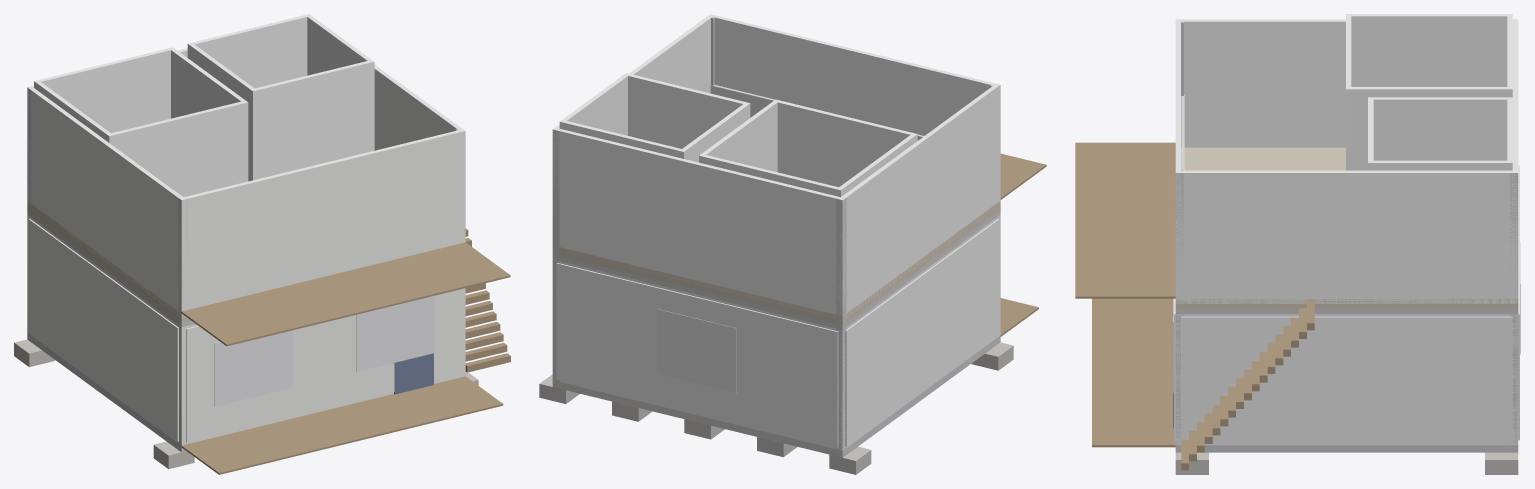
The model's file is Duplex-20-Premium-LOD0.glb.
3 views of the same model, side by side, from view 1: azimuth 30°, elevation 25°; view 2: azimuth 150°, elevation 25°; view 3: azimuth 270°, elevation 25° (orthographic). The views are drawn at different scales.
Visible parts, largest first — view 1: ExteriorShellUpper, ExteriorPanelsPremium, StudyUpper, BedroomUpper, BalconyUpper, BalconyGround, WindowsLargeUpgrade, StaircaseExternal, ExteriorShell, FoundationBlocks, FloorUpper, VerticalStructure (+3 smaller); view 2: ExteriorShellUpper, ExteriorPanelsPremium, BedroomUpper, StudyUpper, WindowsLargeUpgrade, FloorUpper, VerticalStructure, FoundationBlocks, BaseFrame, ExteriorShell, TopFrame, BalconyUpper (+2 smaller); view 3: ExteriorShellUpper, ExteriorPanelsPremium, BalconyUpper, BedroomUpper, BalconyGround, StudyUpper, FloorUpper, StaircaseExternal, ExteriorShell, BaseFrame, VerticalStructure, TopFrame (+1 smaller).
Part boxes in pixels (x1,y1,x2,y2): ExteriorShellUpper: [27, 48, 465, 317]; ExteriorPanelsPremium: [28, 218, 461, 442]; StudyUpper: [187, 14, 374, 181]; BedroomUpper: [34, 47, 248, 196]; BalconyUpper: [181, 242, 510, 346]; BalconyGround: [181, 376, 503, 474]; WindowsLargeUpgrade: [214, 295, 434, 406]; StaircaseExternal: [465, 228, 510, 372]; ExteriorShell: [27, 215, 465, 445]; FoundationBlocks: [14, 339, 478, 469]; FloorUpper: [27, 201, 190, 322]; VerticalStructure: [27, 89, 458, 445]; ExteriorShellUpper: [552, 14, 1000, 318]; ExteriorPanelsPremium: [556, 219, 999, 447]; BedroomUpper: [699, 99, 917, 197]; StudyUpper: [559, 73, 750, 162]; WindowsLargeUpgrade: [656, 309, 736, 393]; FloorUpper: [558, 201, 1000, 325]; VerticalStructure: [552, 17, 998, 449]; FoundationBlocks: [539, 342, 1013, 474]; BaseFrame: [552, 335, 1000, 457]; ExteriorShell: [556, 215, 1000, 450]; TopFrame: [555, 210, 1000, 329]; BalconyUpper: [1000, 153, 1046, 199]; ExteriorShellUpper: [1175, 19, 1518, 303]; ExteriorPanelsPremium: [1174, 165, 1519, 443]; BalconyUpper: [1075, 142, 1175, 298]; BedroomUpper: [1346, 14, 1512, 170]; BalconyGround: [1092, 298, 1175, 447]; StudyUpper: [1368, 97, 1512, 170]; FloorUpper: [1175, 147, 1518, 308]; StaircaseExternal: [1181, 299, 1314, 470]; ExteriorShell: [1175, 314, 1518, 445]; BaseFrame: [1175, 445, 1518, 452]; VerticalStructure: [1175, 21, 1518, 445]; TopFrame: [1175, 309, 1518, 313].
Bounding box in the file's own units: 7.94 × 6 × 8.
